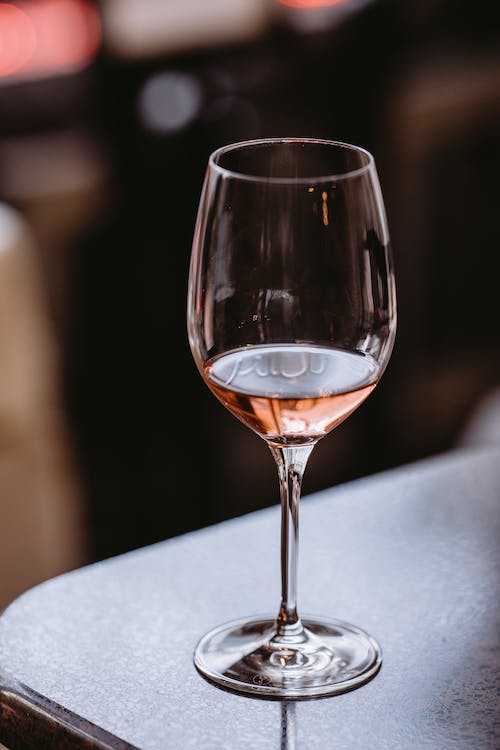alcohol: (184, 135, 399, 702)
